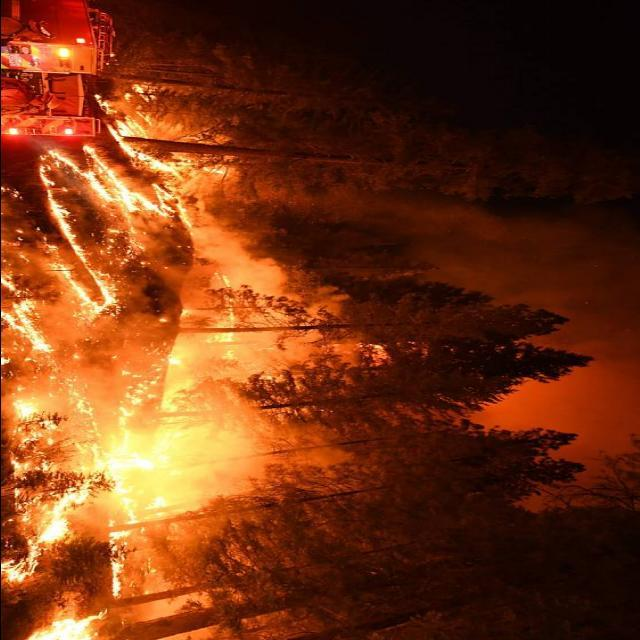Fire: (0, 111, 378, 640)
